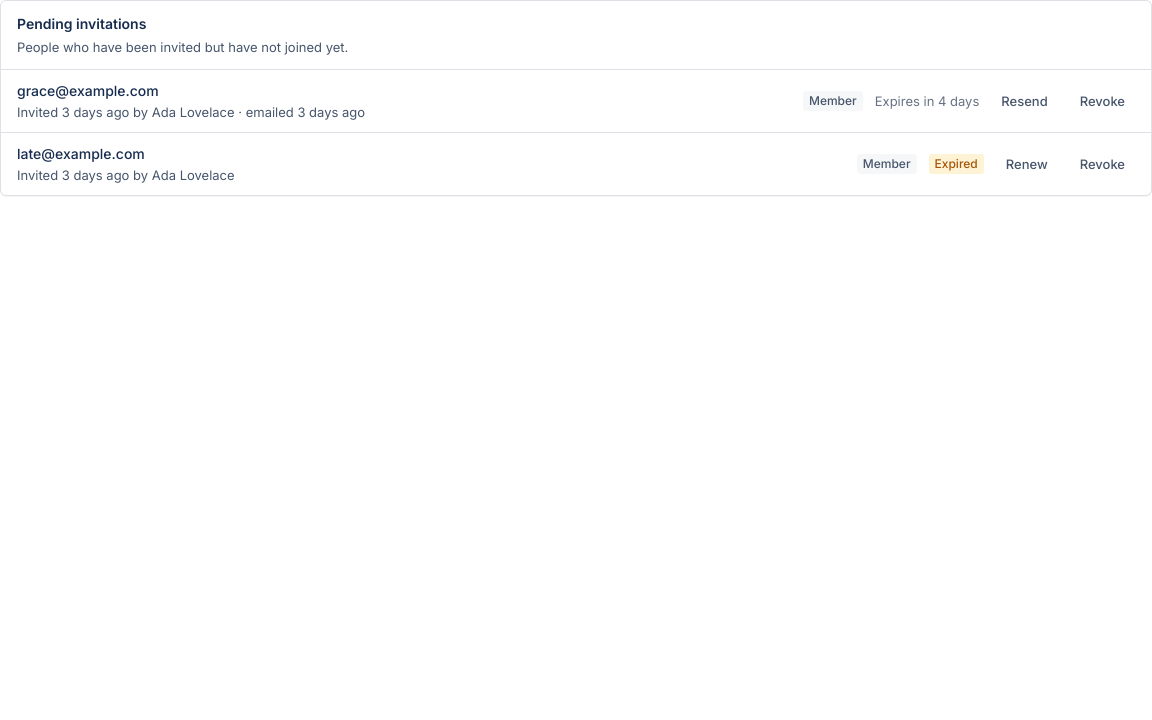
Test: invitations › sends an invitation again, renews an expired one, and shows the link when it cannot be emailed
This screenshot has width=1152, height=720.
Expected: the text "Invited 3 days ago by Ada Lovelace · emailed 3 days ago" is shown, [17,104,365,120]
What coordinates should you click on to do the following:
click the button with aria-label "Send the invitation for grace@example.com again"
I would click on:
 (1024, 101)
Its box is [991,87,1058,115].
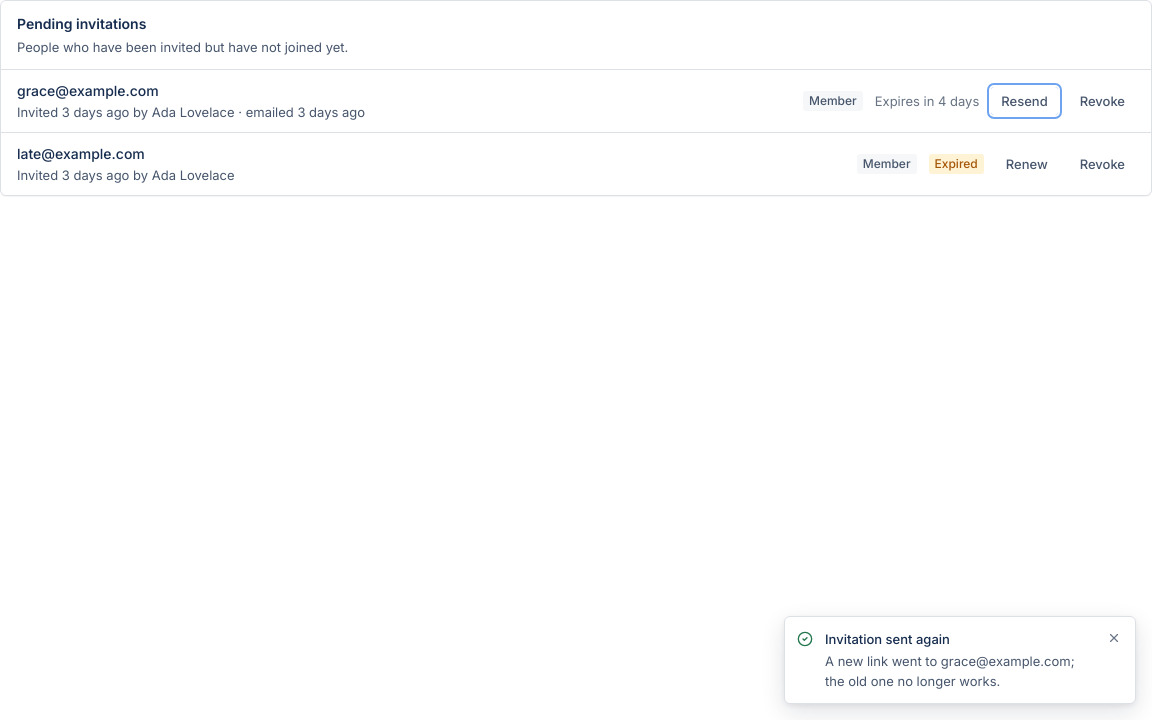
Result: the text "A new link went to grace@example.com; the old one no longer works." is shown at [825,651,1093,691]
What coordinates should you click on to do the following:
click the button with aria-label "Send the invitation for grace@example.com again"
I would click on:
 (1024, 101)
Its box is [991,87,1058,115].
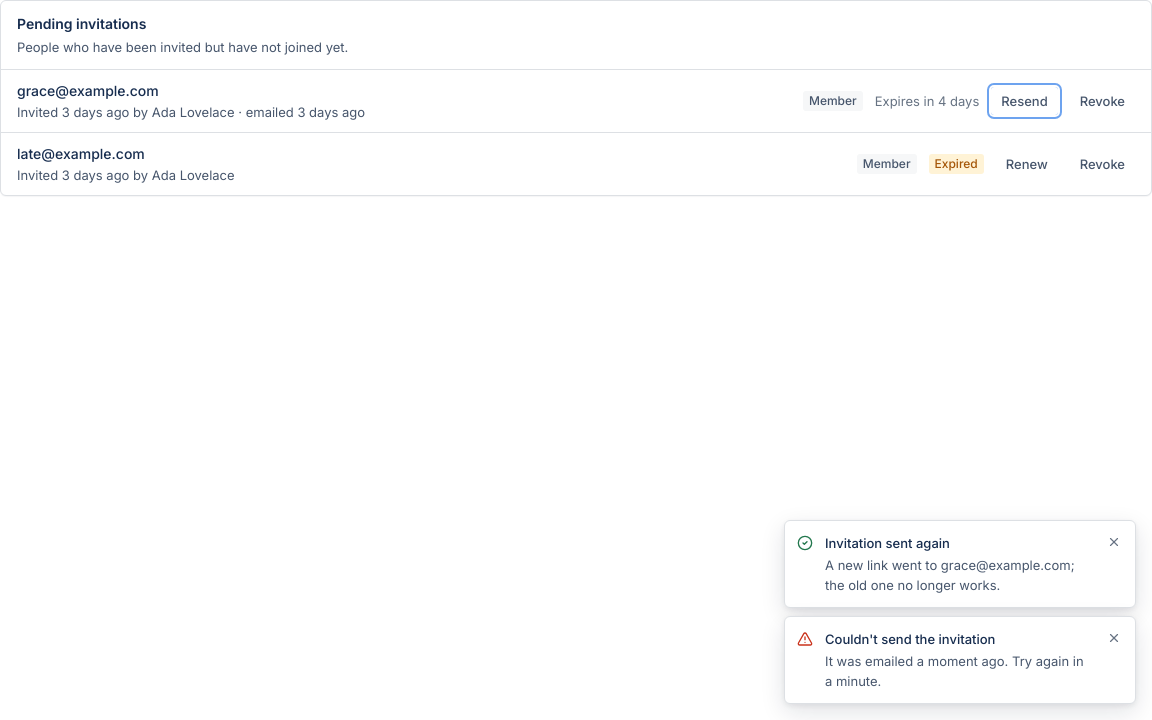
Result: the text "It was emailed a moment ago. Try again in a minute." is shown at [825,651,1093,691]
What coordinates should you click on to do the following:
click the button with aria-label "Send the invitation for late@example.com again"
I would click on:
 (1027, 164)
Its box is [996,150,1058,178].
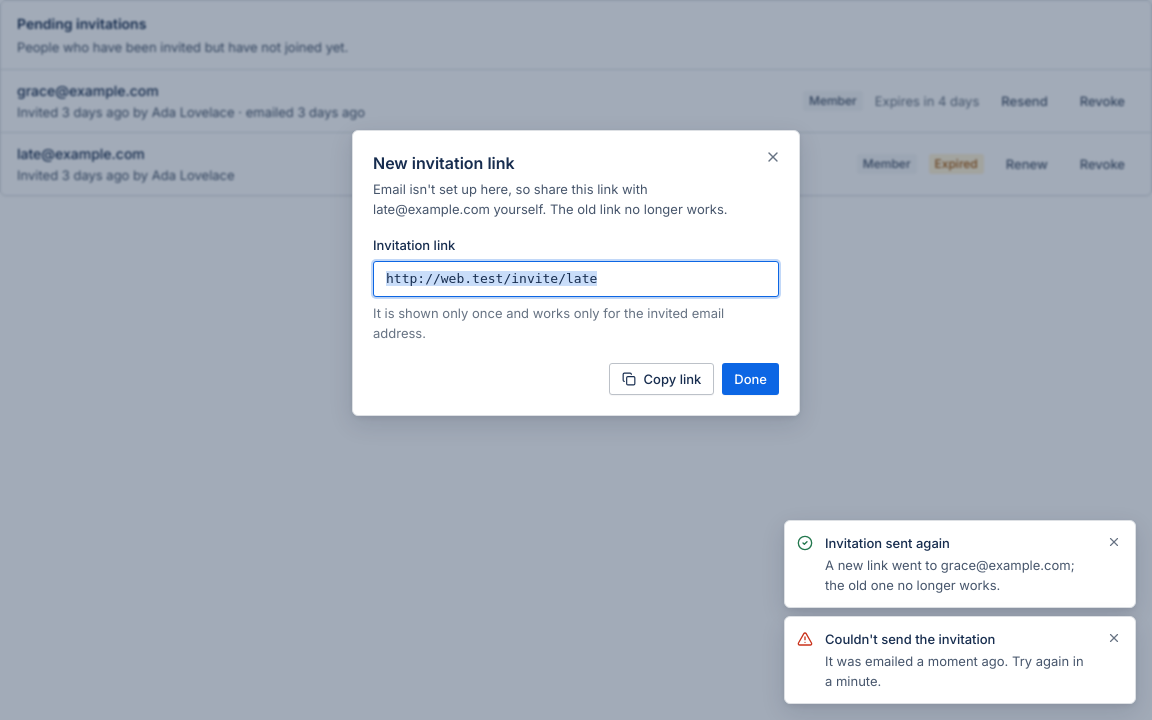
Result: the field showing "http://web.test/invite/late" is shown at [373,261,779,297]
